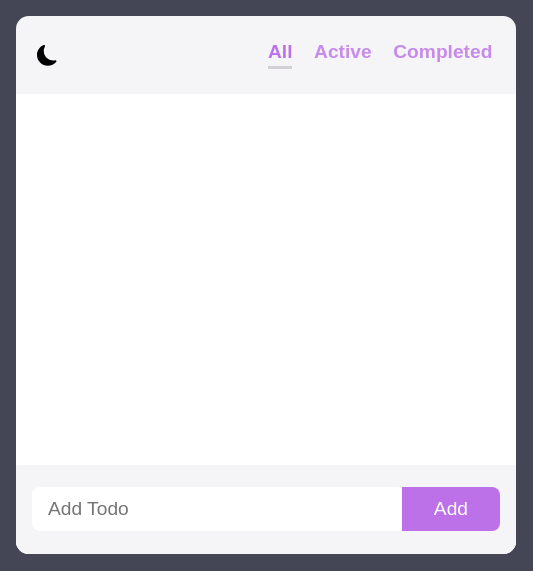
Test case: Todo App › Todo test › deletes a todo
The width and height of the screenshot is (533, 571).
In the field with placeholder "Add Todo": [217, 509] box [32, 487, 402, 531], type "책 읽기"
Click the button "Add": [451, 509] box [402, 487, 500, 531]
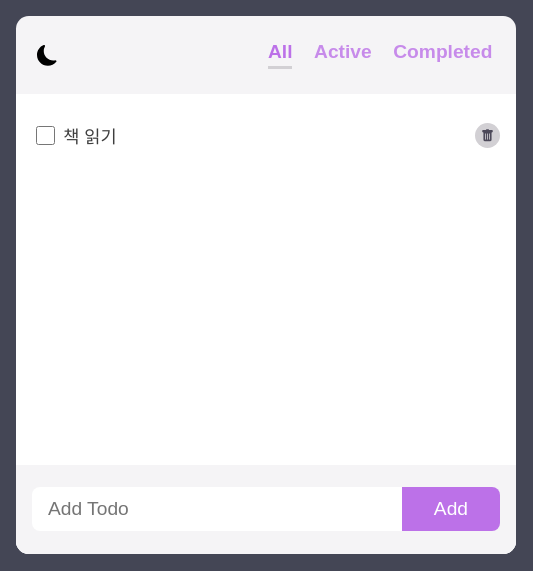
In the field with placeholder "Add Todo": [217, 509] box [32, 487, 402, 531], type "공부하기"
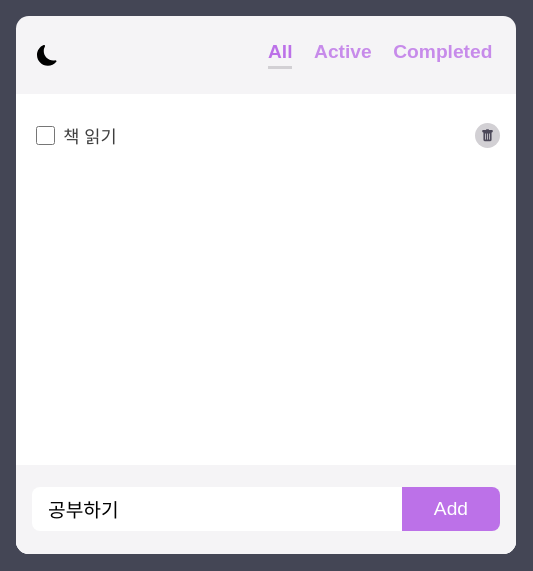
Click the button "Add": [451, 509] box [402, 487, 500, 531]
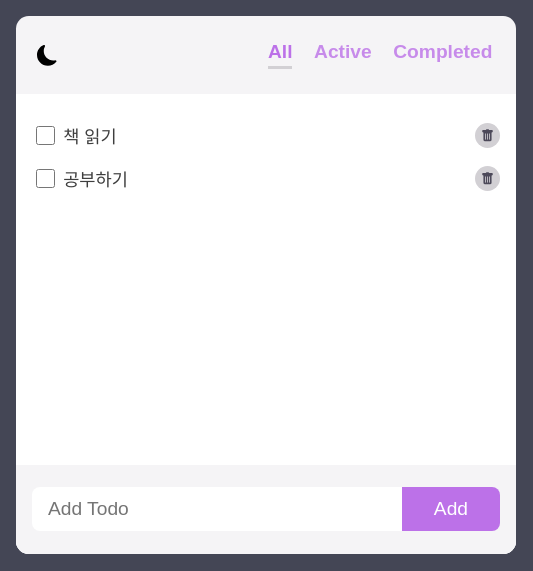
In the field with placeholder "Add Todo": [217, 509] box [32, 487, 402, 531], type "밥 먹기"
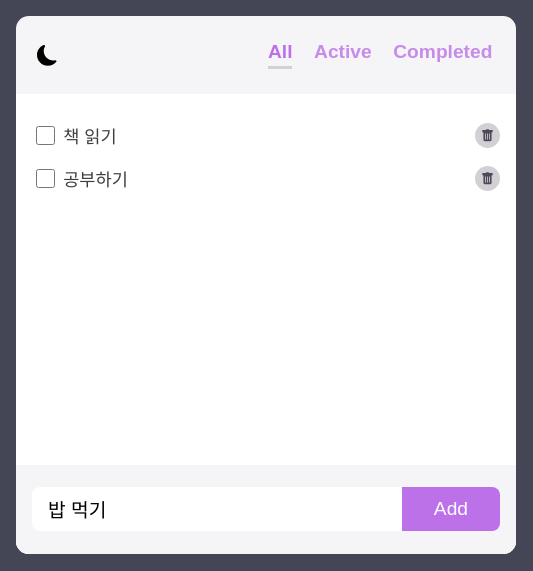
Click the button "Add": [451, 509] box [402, 487, 500, 531]
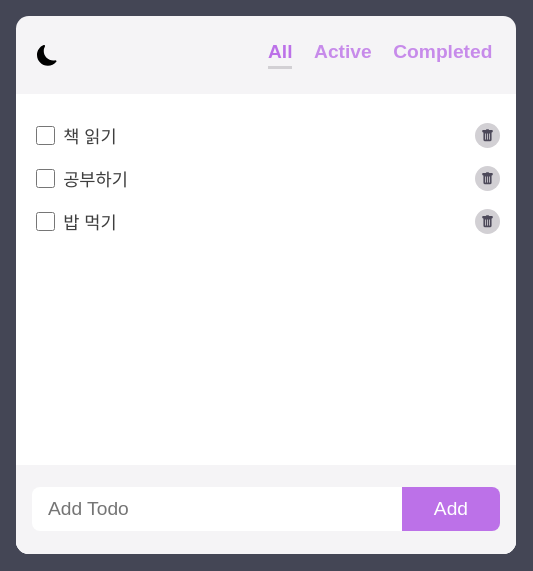
Click the button titled "delete" in the row of "책 읽기": [488, 136] box [475, 123, 500, 148]
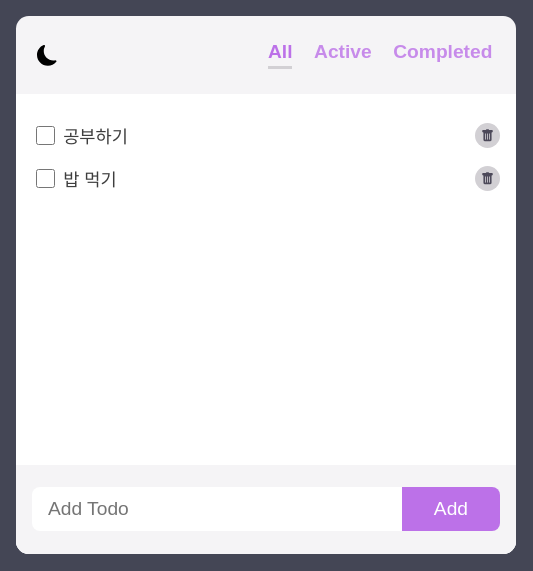
Check: the text "책 읽기" is gone
